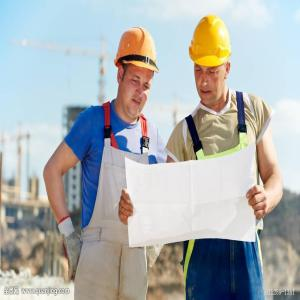yellow: (113, 24, 162, 122), (189, 15, 233, 107)
